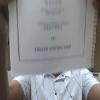notebook: (7, 0, 97, 77)
